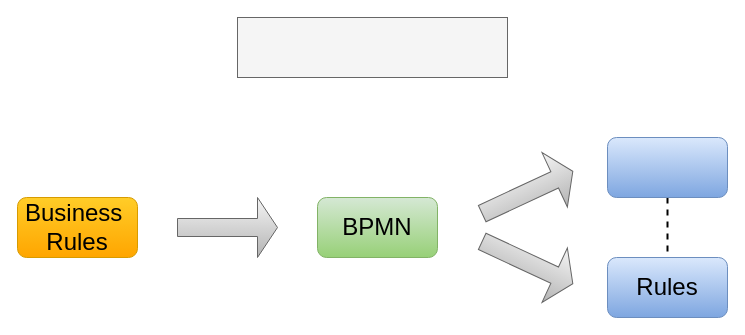
Some shapes in this 745 by 335 pixel diagram are drawn without their labels. The centre of each missing label's shape, as x and y in pixels:
"Workflow" goes at point 667,167.
"Workflow / Rules Busienss Process Modeling Notation BPMN" goes at point 372,47.
